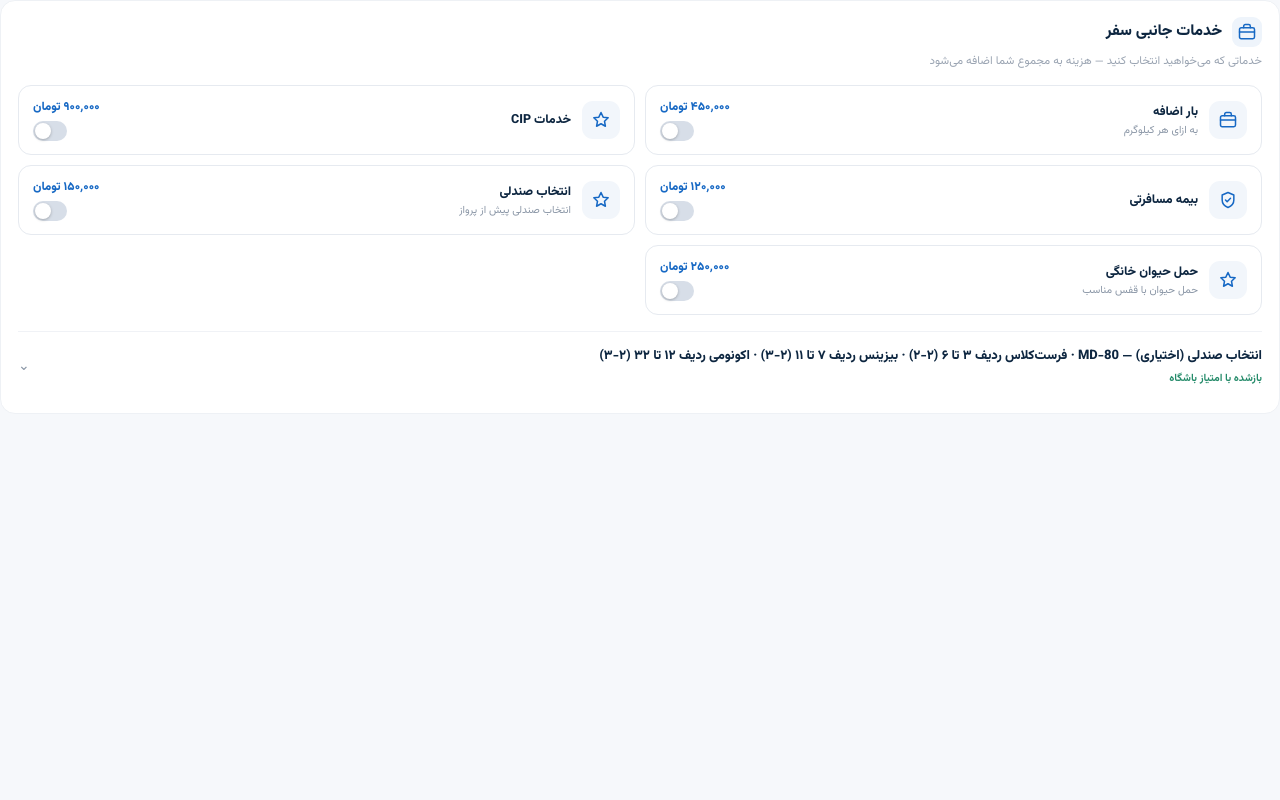
Test: ExtrasStep — design parity › lets a high-point customer open the seat map without selecting the paid extra
Click the button with test id "checkout-seat-toggle". click: (640, 367)
box: [18,347,1262,387]
(page scrolled)
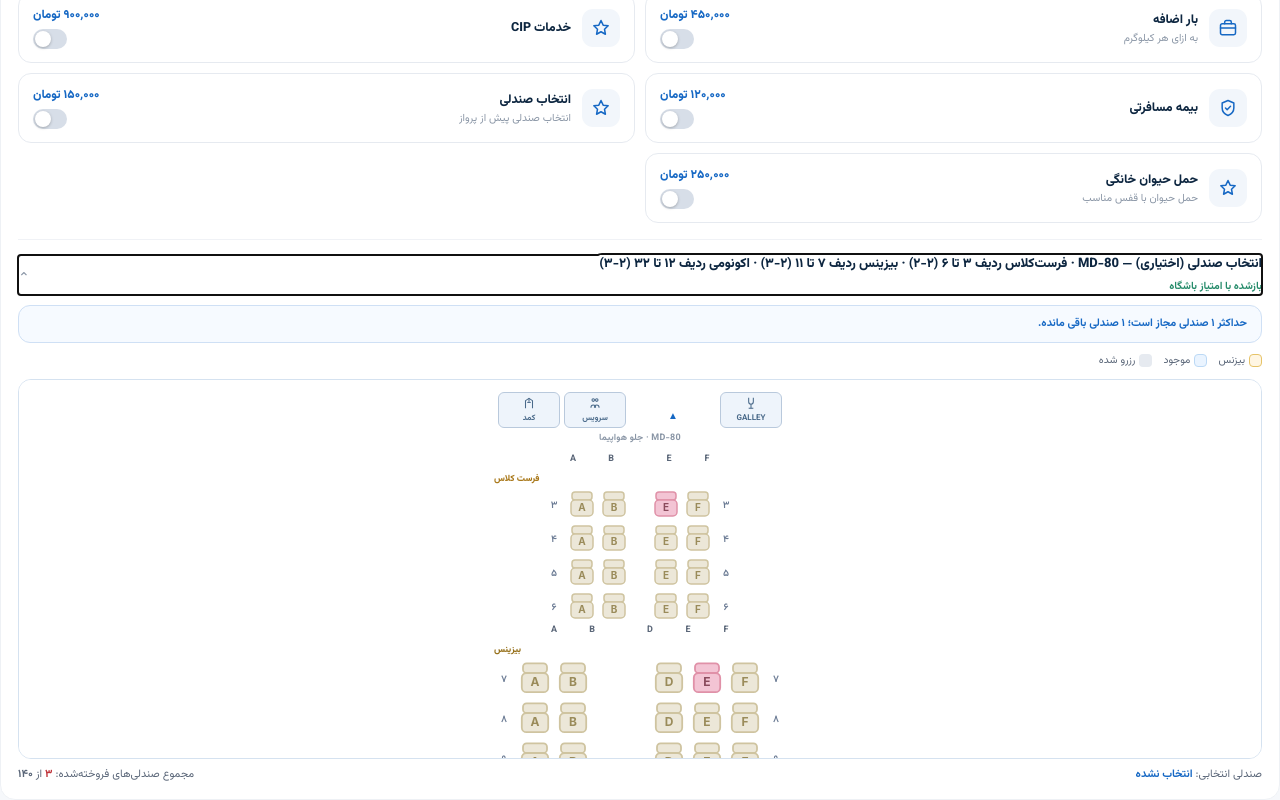
Expected: the element with test id "checkout-seat-map" is shown, [18,379,1262,759]
